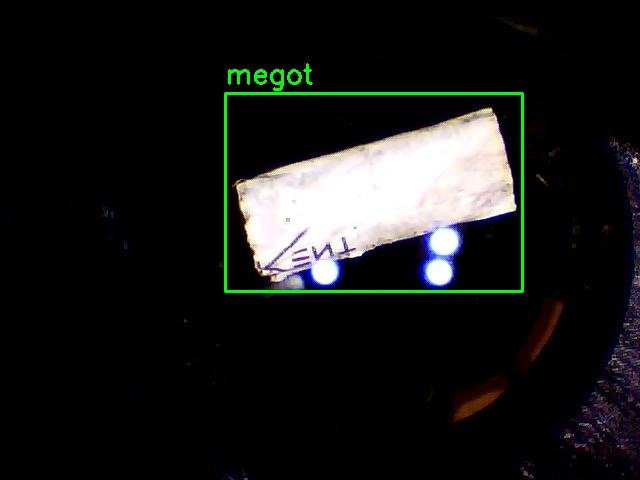megot: (225, 93, 522, 291)
